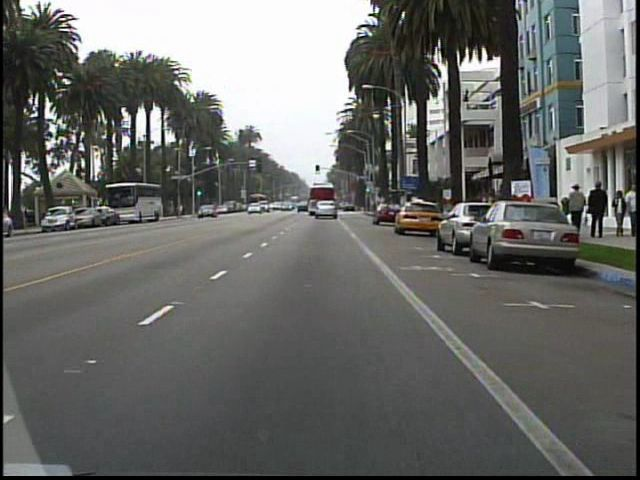person: (586, 176, 608, 241), (609, 186, 628, 238), (566, 182, 586, 227), (624, 183, 637, 239)
